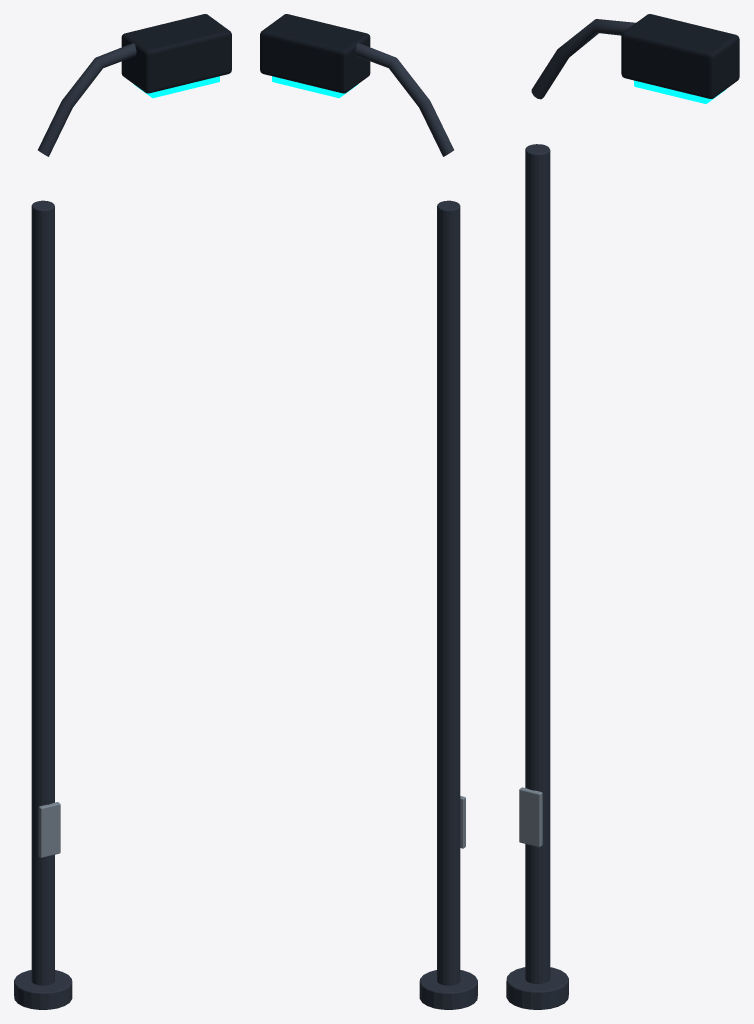
Rendered from prop_streetlight_neon_a_v01.glb.
3 views of the same model, side by side, from view 1: azimuth 30°, elevation 25°; view 2: azimuth 150°, elevation 25°; view 3: azimuth 330°, elevation 25° (orthographic). The views are drawn at different scales.
Visible parts, largest first — view 1: component__pole__pole, component__luminaire_housing__luminaire_housing, component__support_arm__support_arm, component__base_flange__base_flange, component__maintenance_access__maintenance_access; view 2: component__pole__pole, component__luminaire_housing__luminaire_housing, component__support_arm__support_arm, component__base_flange__base_flange; view 3: component__pole__pole, component__luminaire_housing__luminaire_housing, component__base_flange__base_flange, component__support_arm__support_arm, component__maintenance_access__maintenance_access, component__lens__lens.
Part boxes in pixels (<box>): component__pole__pole: <box>31,200,54,985</box>; component__luminaire_housing__luminaire_housing: <box>121,14,231,93</box>; component__support_arm__support_arm: <box>38,43,136,156</box>; component__base_flange__base_flange: <box>14,970,72,1009</box>; component__maintenance_access__maintenance_access: <box>38,802,60,857</box>; component__pole__pole: <box>437,200,460,985</box>; component__luminaire_housing__luminaire_housing: <box>260,14,370,93</box>; component__support_arm__support_arm: <box>355,43,453,156</box>; component__base_flange__base_flange: <box>419,970,477,1009</box>; component__pole__pole: <box>525,144,550,983</box>; component__luminaire_housing__luminaire_housing: <box>621,14,739,98</box>; component__base_flange__base_flange: <box>506,967,568,1009</box>; component__support_arm__support_arm: <box>531,19,635,99</box>; component__maintenance_access__maintenance_access: <box>519,787,542,847</box>; component__lens__lens: <box>634,80,726,103</box>.
Bounding box in the file's own units: 1.43 × 6.32 × 0.36.
